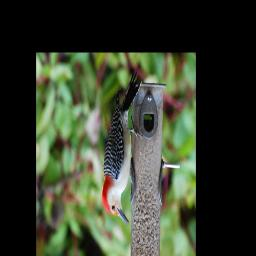Woodpecker: (101, 68, 144, 225)
